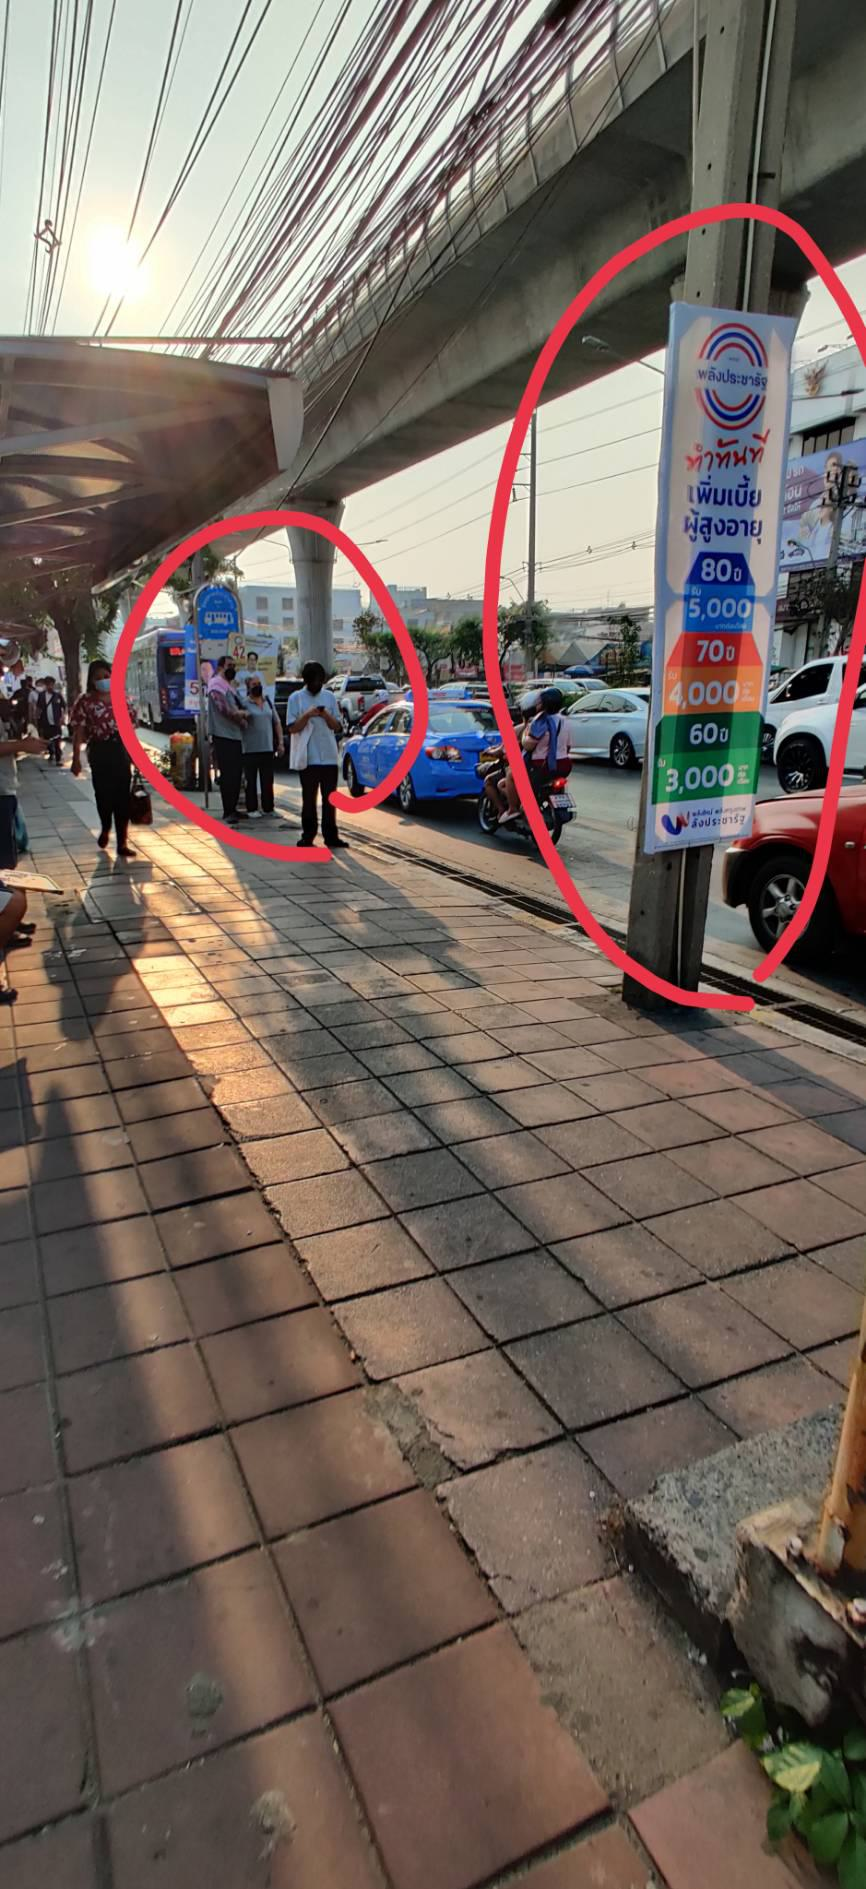Banner: (649, 296, 791, 854)
